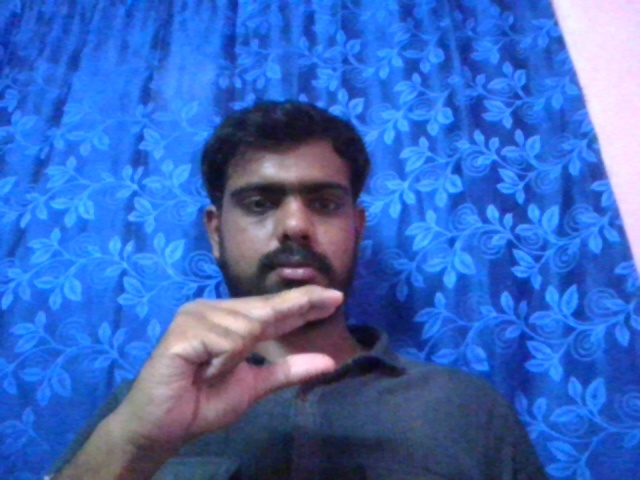No: (124, 268, 344, 438)
